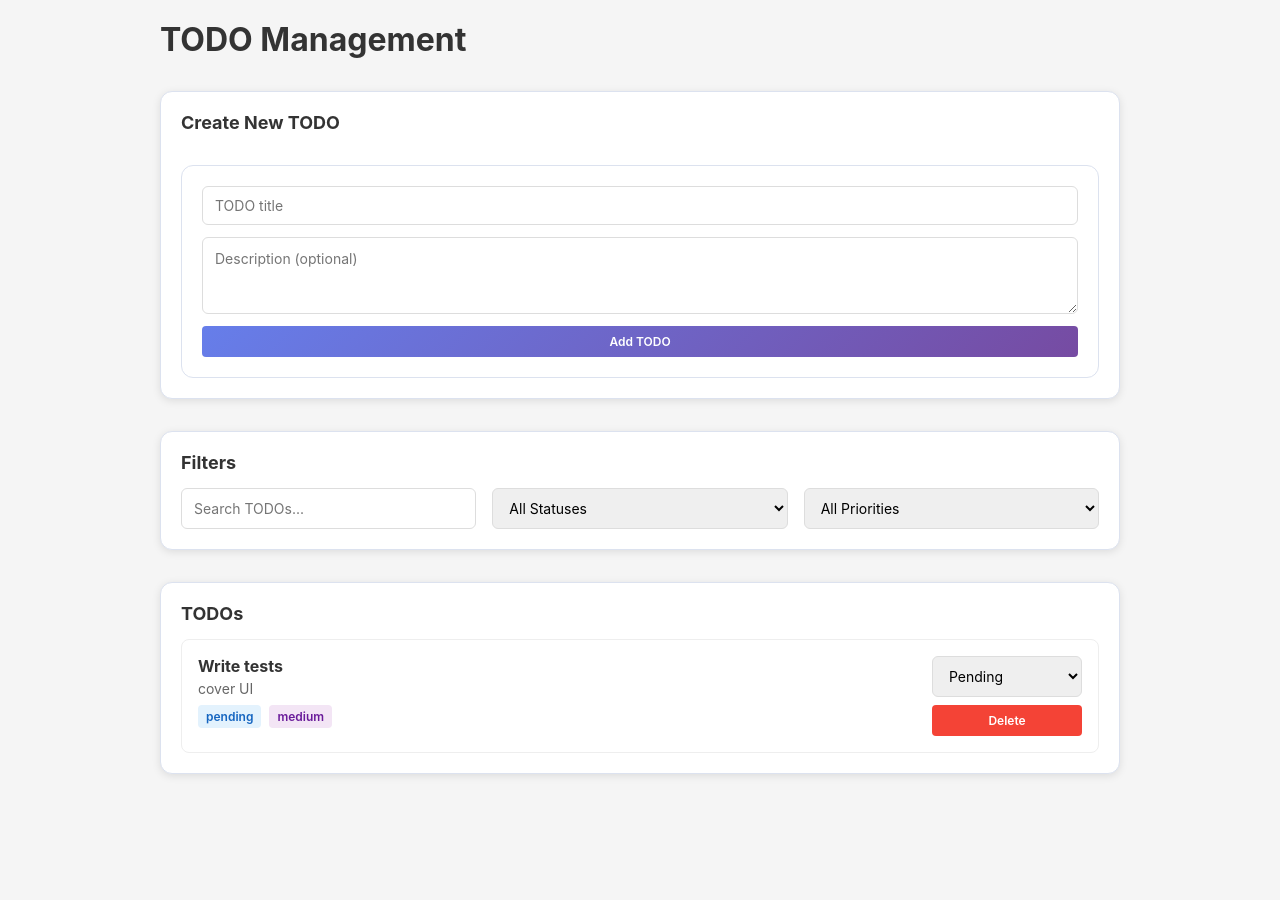
Test: Todos page › shows an error toast when actions fail
Type "x" into the field with test id "todo-title-input".
click(640, 206); type("x")  # box [202, 186, 1078, 225]
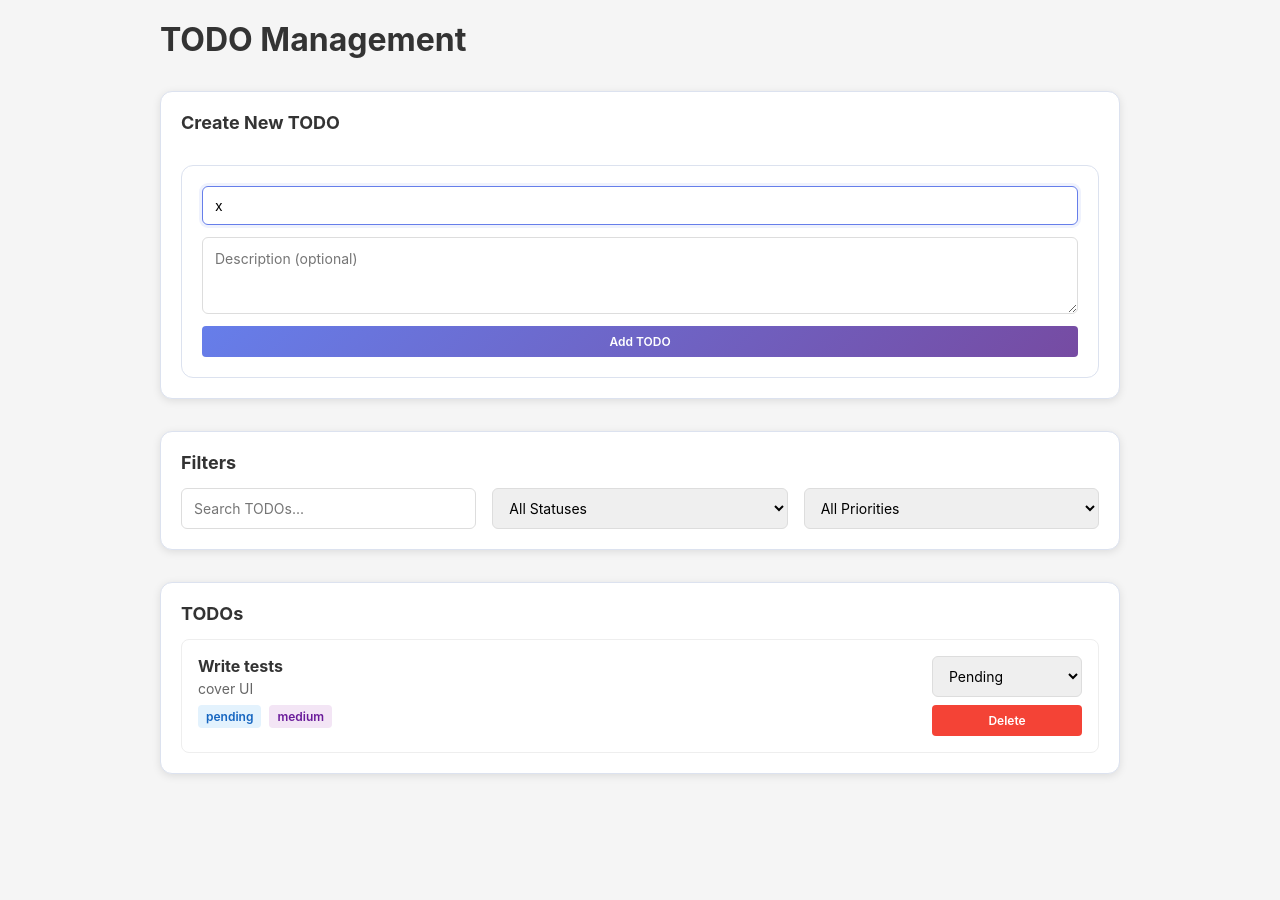
Click the button with test id "todo-create-button".
click(640, 342)  # box [202, 326, 1078, 357]
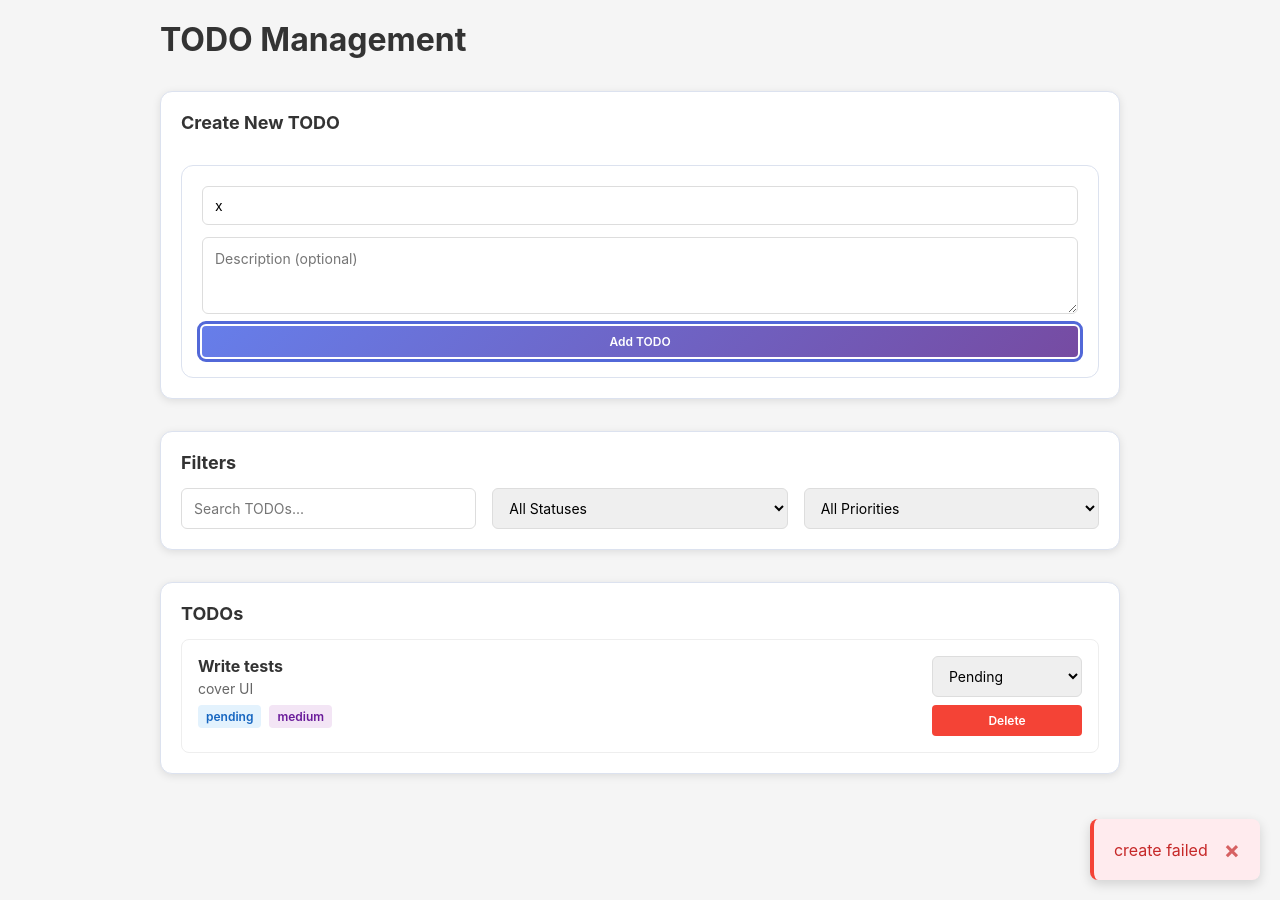
Now the text "create failed" is shown, box [1114, 840, 1208, 860]
Select "Completed" in the dropdown with test id "todo-status-select-t1" at point(1007, 676), box [932, 656, 1082, 697]
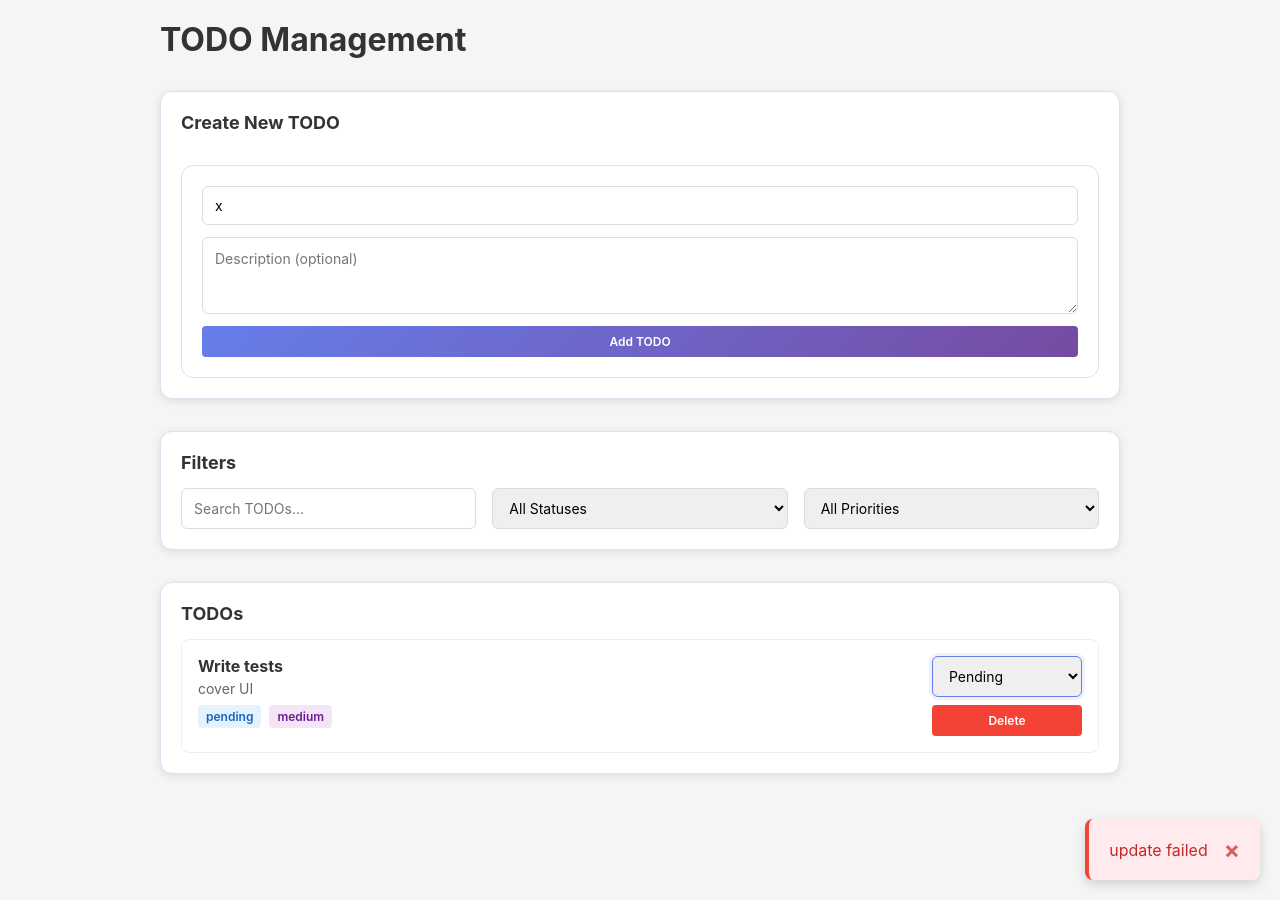
Now the text "update failed" is shown, box [1109, 840, 1208, 860]
Click the button with test id "todo-delete-button-t1".
click(1007, 720)  # box [932, 705, 1082, 736]
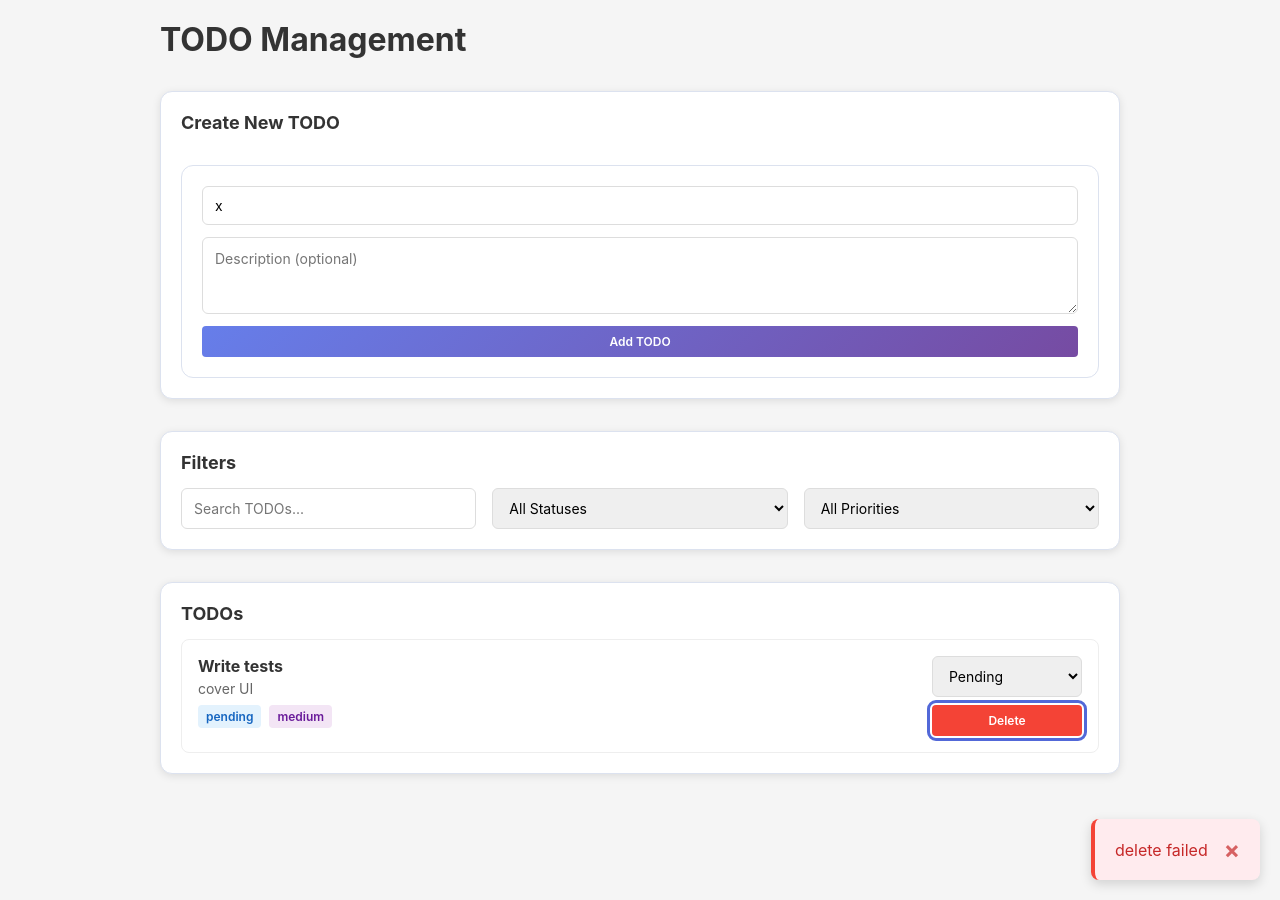
Now the text "delete failed" is shown, box [1115, 840, 1208, 860]
